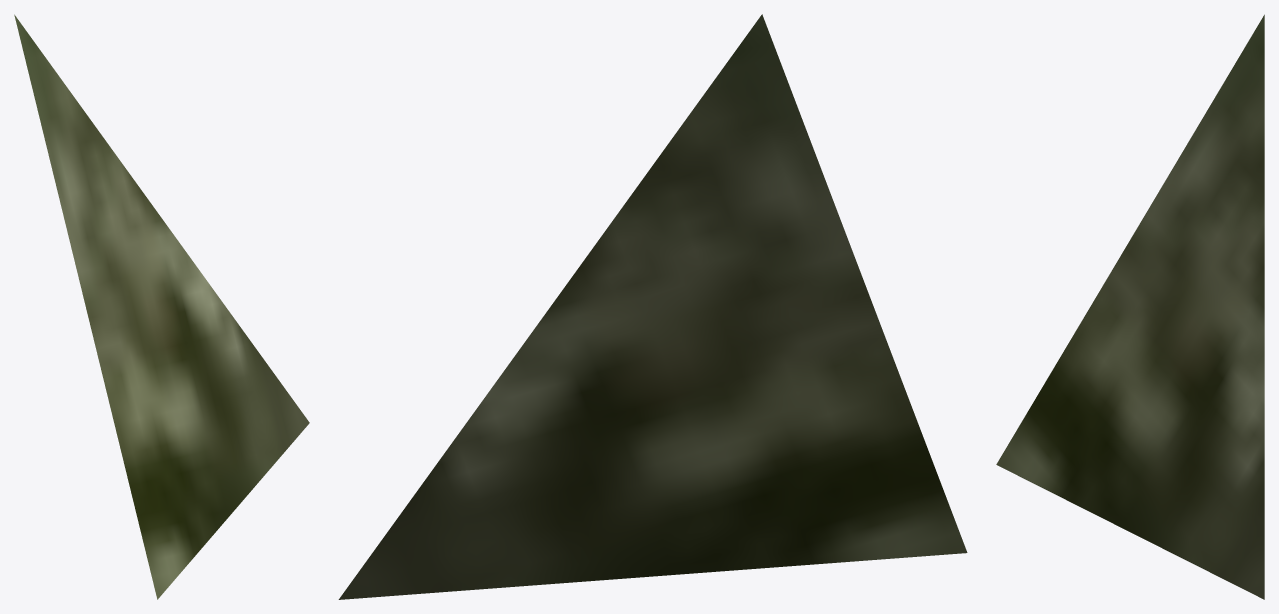
The picture shows the model from 3 angles, left to right: view 1: azimuth 30°, elevation 25°; view 2: azimuth 150°, elevation 25°; view 3: azimuth 270°, elevation 25°; orthographic projection. The views are drawn at different scales.
Bounding box in the file's own units: 0.2462 × 0.3827 × 0.2067.
Materials: 1 (1 with a texture image).
